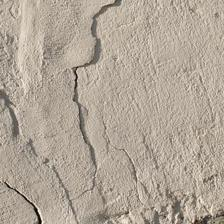Crack: (49, 0, 141, 125), (0, 18, 133, 58)
